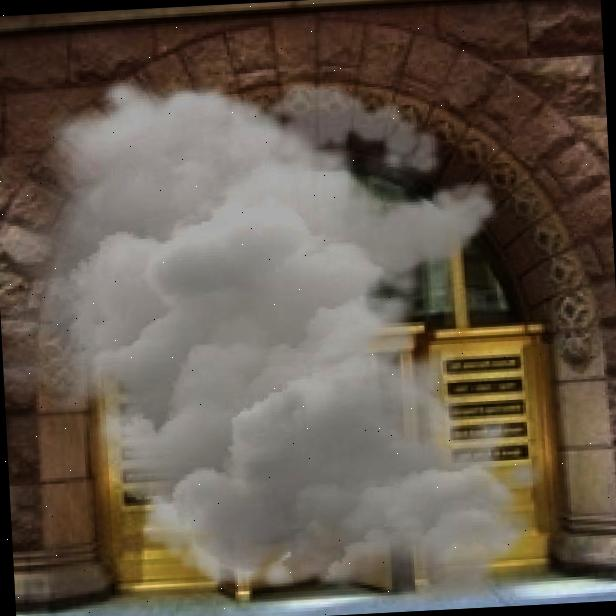smoke: (0, 52, 556, 616)
